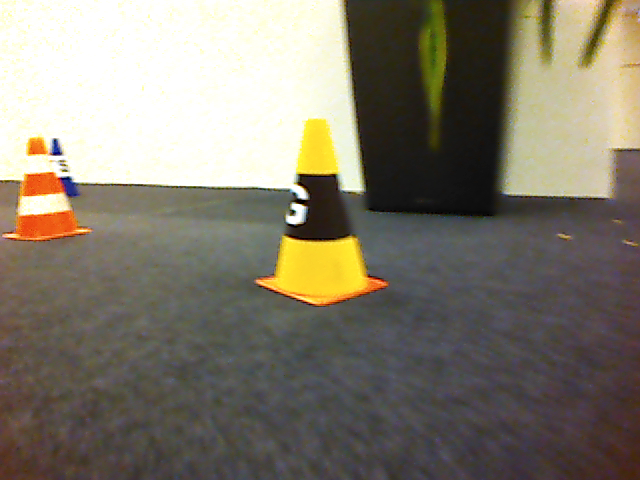orangeconesmall: (1, 134, 94, 243)
yellowcone: (253, 116, 390, 309)
